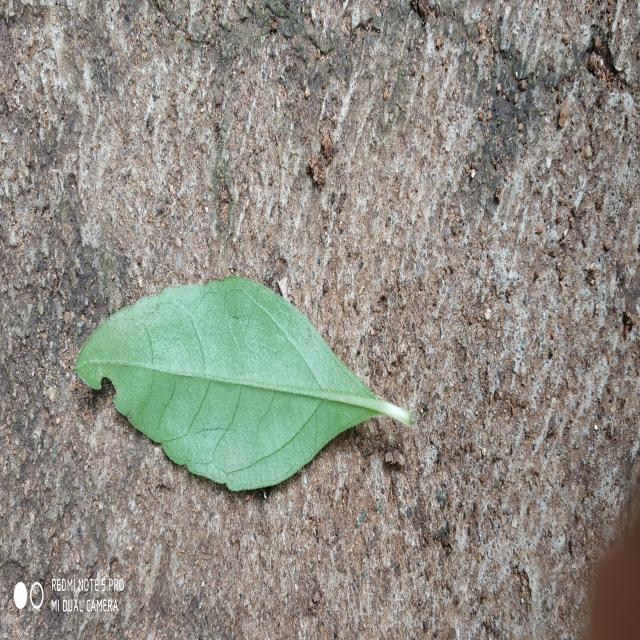bringaraja: (75, 278, 414, 490)
